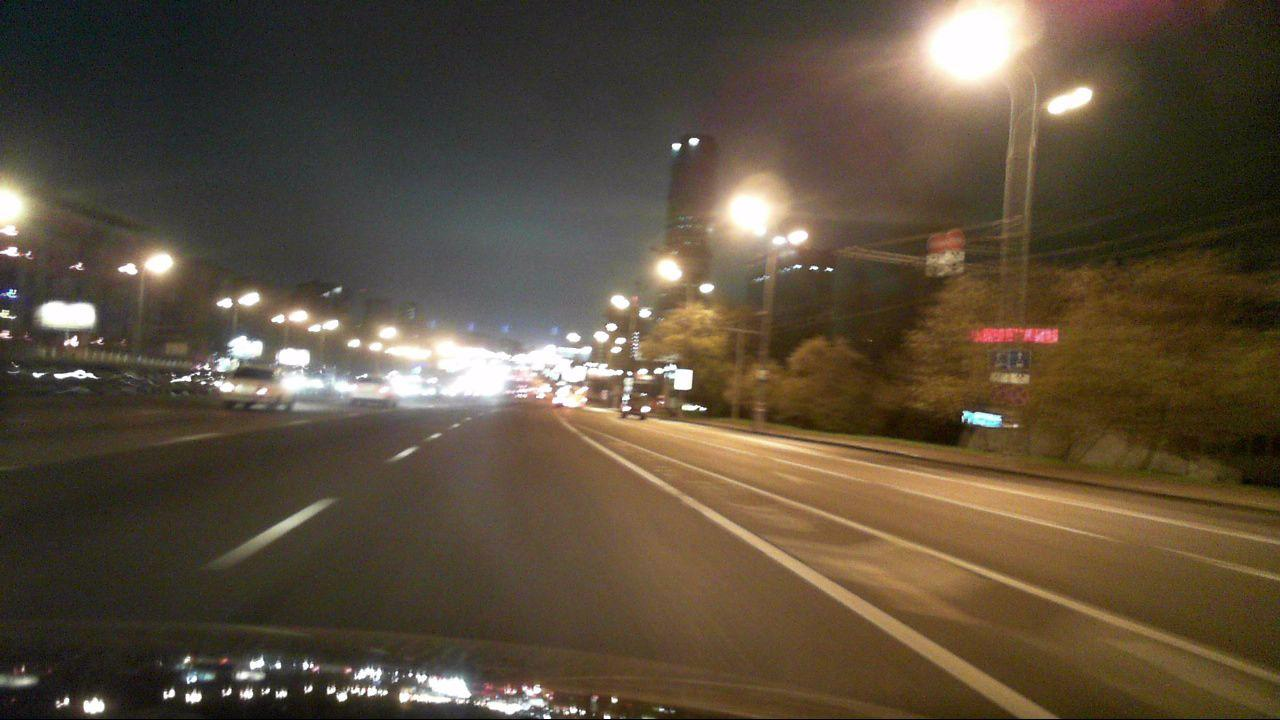5_14_1: (1008, 349, 1030, 371)
